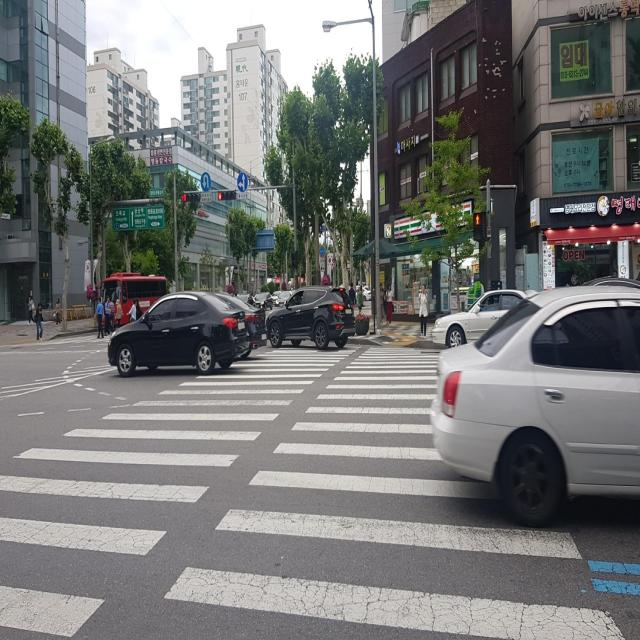빨간불: (472, 211, 488, 241)
횡단보도: (0, 342, 622, 640)
